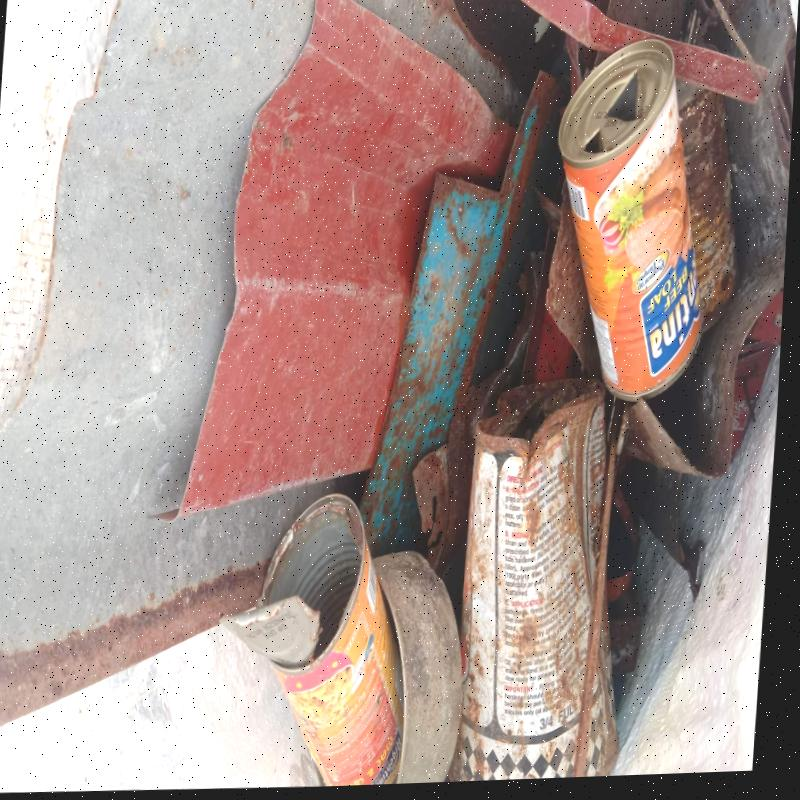aluminum: (444, 378, 618, 782), (219, 493, 404, 786), (557, 38, 702, 402), (675, 77, 737, 335)
